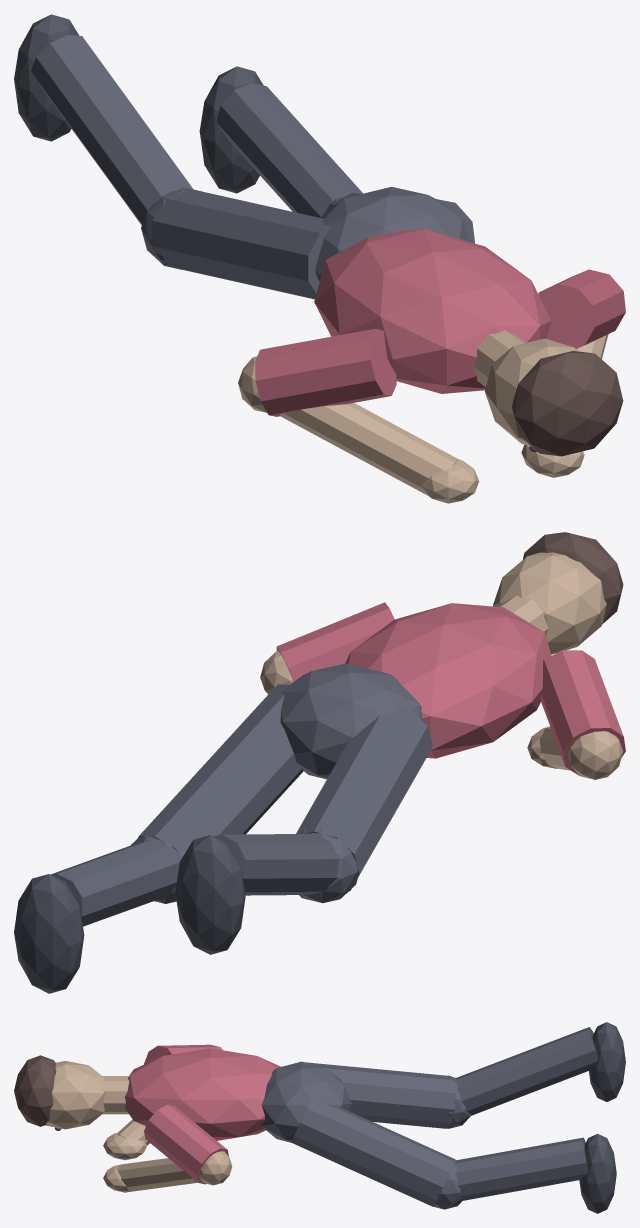
3 views of the same model, one above another, from view 1: azimuth 30°, elevation 25°; view 2: azimuth 150°, elevation 25°; view 3: azimuth 270°, elevation 25° (orthographic). The views are drawn at different scales.
Visible parts, largest first — view 1: world; view 2: world; view 3: world.
Part boxes in pixels (box(x1,y1,x2,y2)): world: box(14, 14, 625, 503); world: box(14, 532, 625, 993); world: box(14, 1022, 625, 1213).
Size of the model in its own units: 0.93 by 0.5125 by 2.07.
